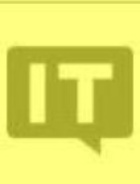ImgButton: (1, 1, 139, 183)
